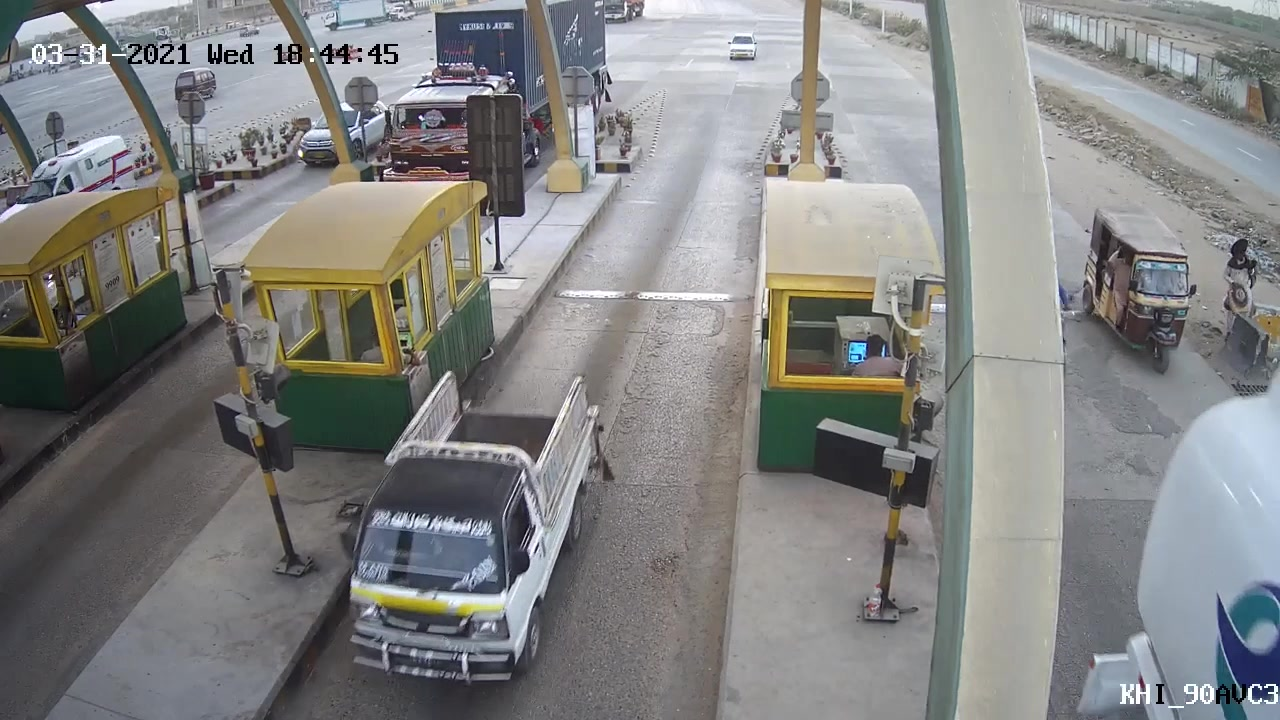F2: (341, 364, 617, 696)
